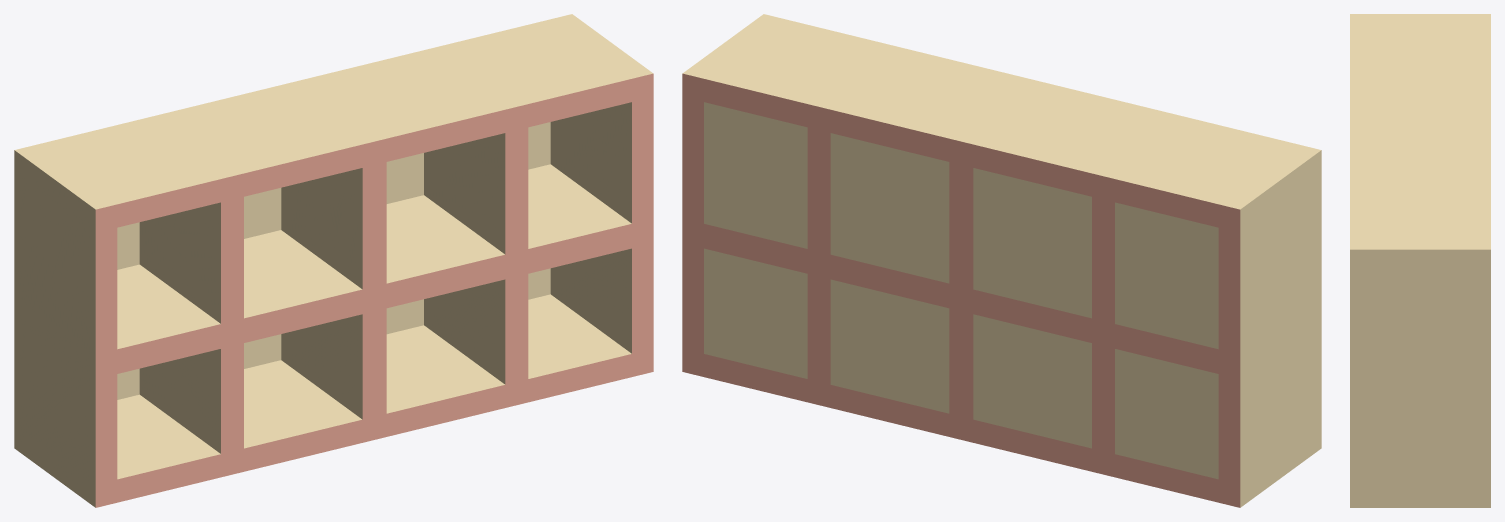
Rendered from Cubby.fbx.
The picture shows the model from 3 angles, left to right: view 1: azimuth 30°, elevation 25°; view 2: azimuth 150°, elevation 25°; view 3: azimuth 270°, elevation 25°; orthographic projection. The views are drawn at different scales.
Visible parts, largest first — view 1: Cubby; view 2: Cubby; view 3: Cubby.
Boxes of the visible parts, left/top/right/bottom form: Cubby: left=14, top=14, right=653, bottom=507; Cubby: left=682, top=14, right=1321, bottom=507; Cubby: left=1350, top=14, right=1490, bottom=507.
Bounding box in the file's own units: 218 × 112 × 55.17.
Materials: 1 (1 with a texture image).
